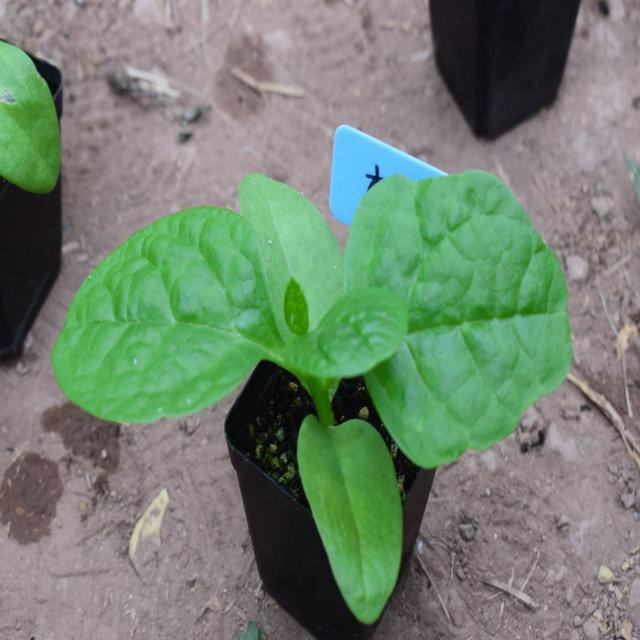Ceylon spinach: (61, 199, 568, 529)
